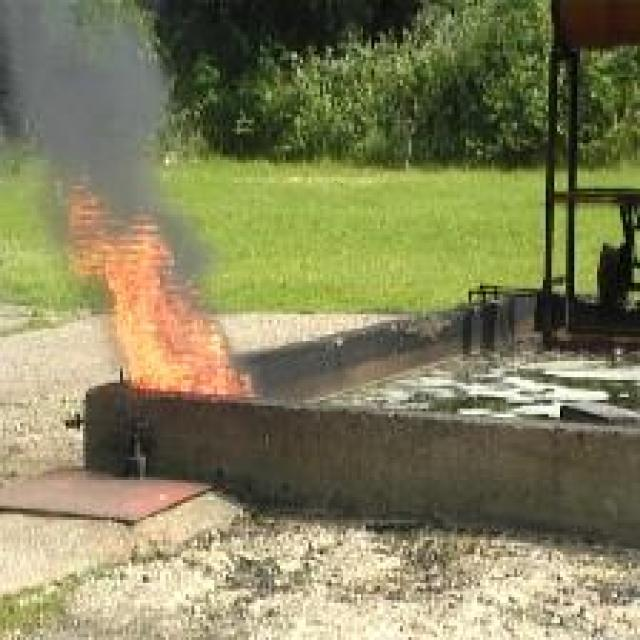Fire: (58, 173, 255, 396)
